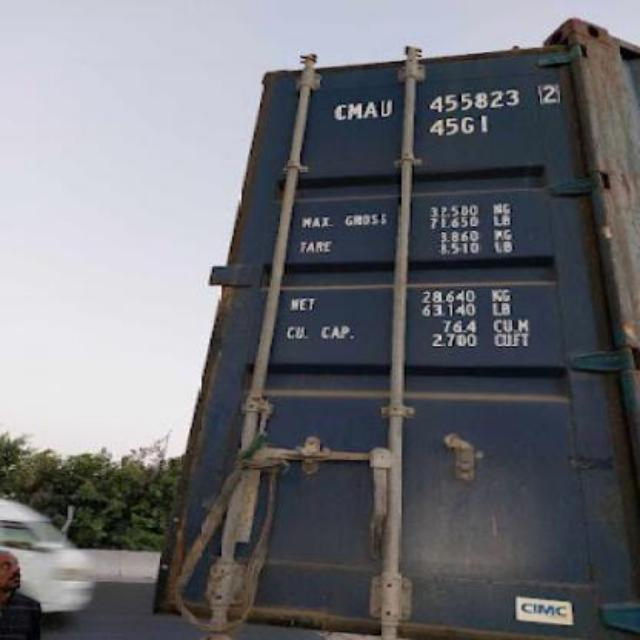2: (538, 78, 558, 105), (486, 85, 502, 112)
3: (504, 82, 518, 110)
4: (428, 88, 440, 115)
5: (456, 88, 472, 116), (444, 90, 456, 114)
8: (474, 86, 488, 112)
A: (362, 95, 378, 121)
C: (332, 98, 346, 122)
M: (346, 99, 362, 123)
U: (378, 94, 392, 124)
